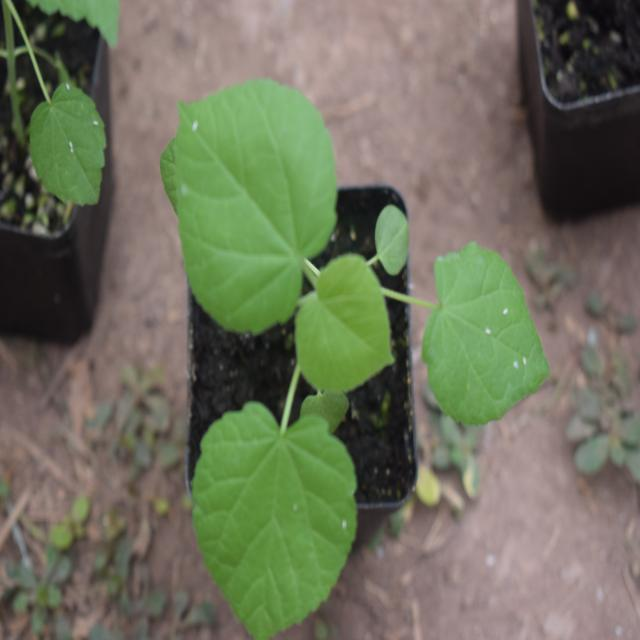abutilon theophrasti: (136, 68, 550, 635)
